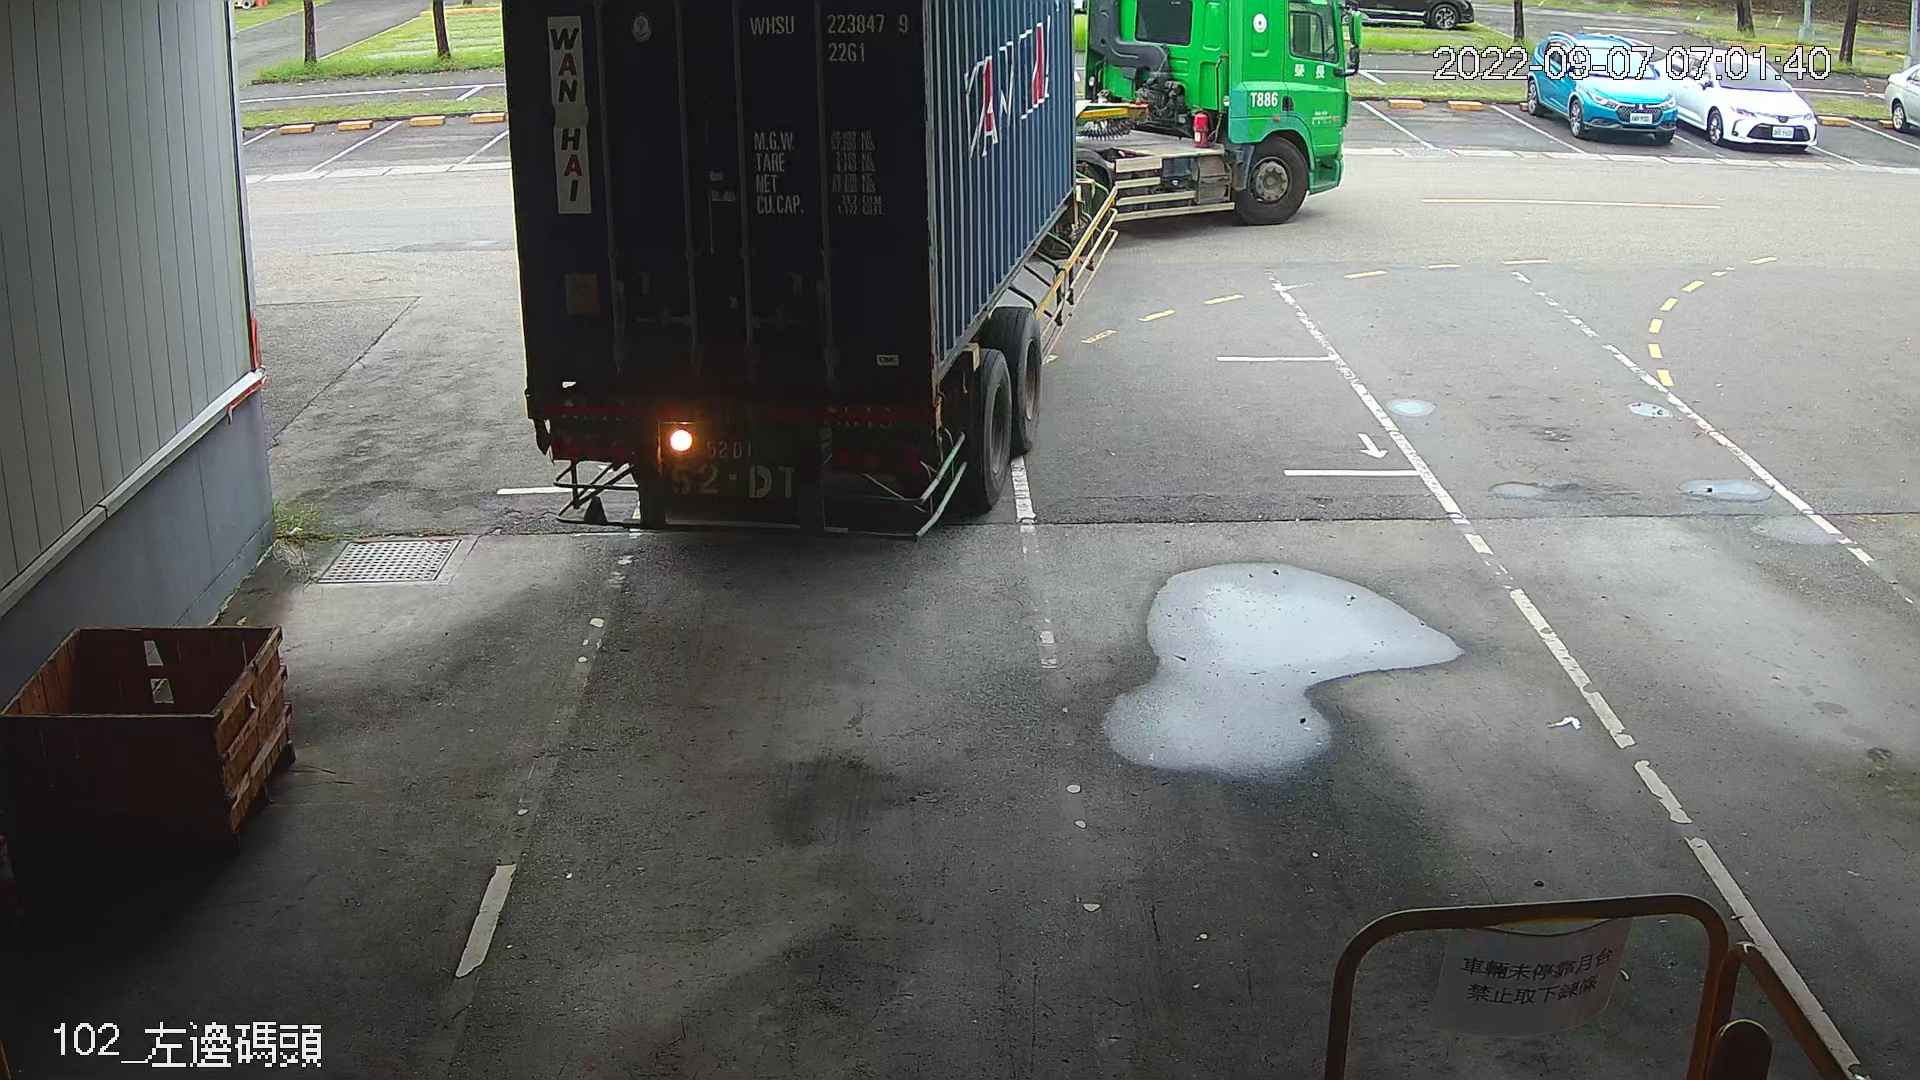container: (741, 3, 916, 70)
